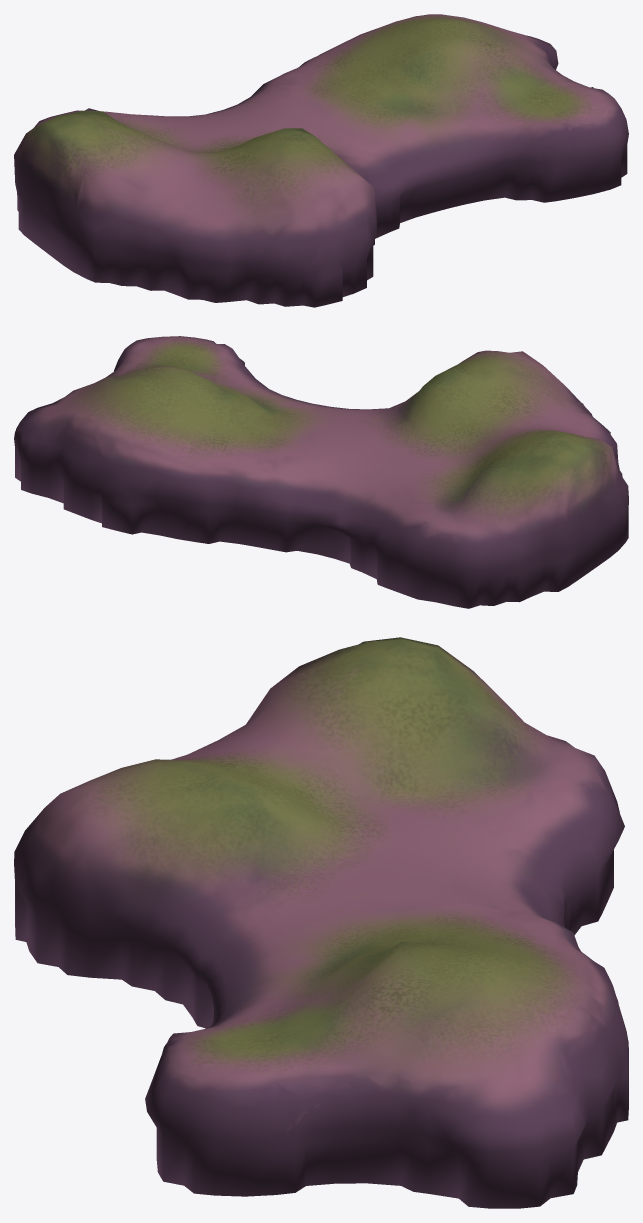
Rendered from Island4.glb.
The picture shows the model from 3 angles, top to bottom: view 1: azimuth 30°, elevation 25°; view 2: azimuth 150°, elevation 25°; view 3: azimuth 270°, elevation 25°; orthographic projection. The views are drawn at different scales.
Visible parts, largest first — view 1: Island3; view 2: Island3; view 3: Island3.
Part boxes in pixels (<box>): Island3: <box>14,14,628,307</box>; Island3: <box>14,336,628,608</box>; Island3: <box>14,637,628,1208</box>.
Size of the model in its own units: 88.18 by 19.07 by 56.5.
1 material, 1 textured.
